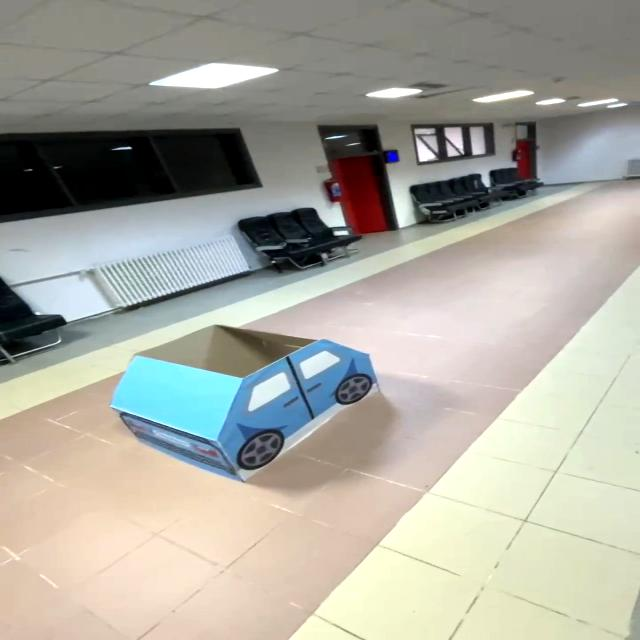blue_car: (86, 309, 396, 503)
